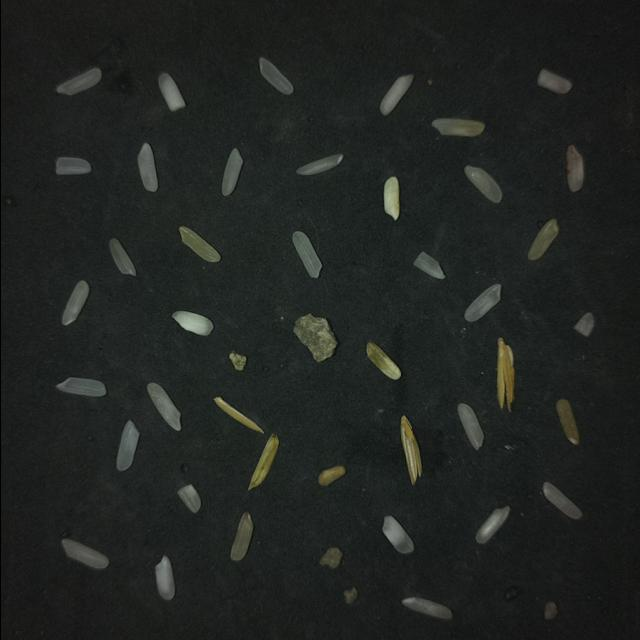broken: (458, 404, 484, 449), (110, 239, 137, 276), (566, 145, 584, 192), (414, 252, 445, 279), (538, 69, 572, 93), (178, 484, 201, 513), (56, 157, 91, 174), (574, 312, 594, 336), (545, 602, 557, 620)
chalky: (380, 74, 414, 115), (476, 507, 510, 543), (382, 516, 414, 553), (172, 311, 213, 336), (158, 74, 185, 111), (155, 556, 175, 599), (383, 177, 400, 220)
discolored: (179, 226, 220, 262), (293, 232, 322, 278), (366, 342, 401, 379), (528, 219, 559, 260), (231, 512, 254, 561), (556, 399, 579, 444), (318, 466, 346, 486)
foreign: (293, 314, 337, 362), (320, 547, 342, 568), (229, 351, 247, 371), (344, 588, 357, 604)
paddy: (214, 397, 264, 433), (248, 435, 279, 490), (401, 415, 422, 484), (497, 338, 515, 411)
whole: (147, 383, 181, 431), (543, 482, 582, 519), (465, 165, 502, 203), (62, 539, 109, 568), (465, 284, 501, 321), (56, 68, 102, 95), (260, 57, 293, 94), (62, 280, 89, 325), (136, 142, 158, 192), (117, 421, 139, 471), (402, 597, 452, 619), (221, 148, 243, 196), (295, 154, 343, 176), (432, 119, 485, 136), (56, 378, 106, 396)
